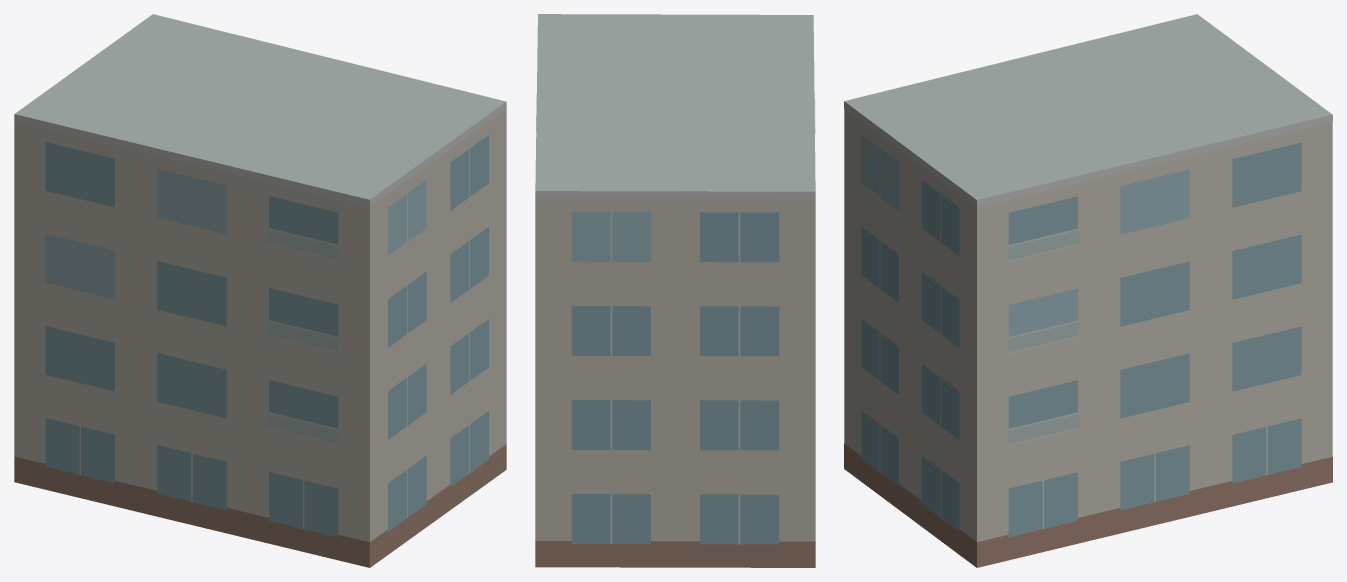
File: survey-upis-32815365.glb
3 views of the same model, side by side, from view 1: azimuth 30°, elevation 25°; view 2: azimuth 150°, elevation 25°; view 3: azimuth 270°, elevation 25° (orthographic). The views are drawn at different scales.
Visible parts, largest first — view 1: survey-upis-32815365.tmp; view 2: survey-upis-32815365.tmp; view 3: survey-upis-32815365.tmp.
Part boxes in pixels (bbox=[...]): survey-upis-32815365.tmp: bbox=[14, 14, 506, 567]; survey-upis-32815365.tmp: bbox=[535, 14, 815, 567]; survey-upis-32815365.tmp: bbox=[844, 14, 1332, 567].
Bounding box in the file's own units: 13.26 × 12.2 × 14.7.
